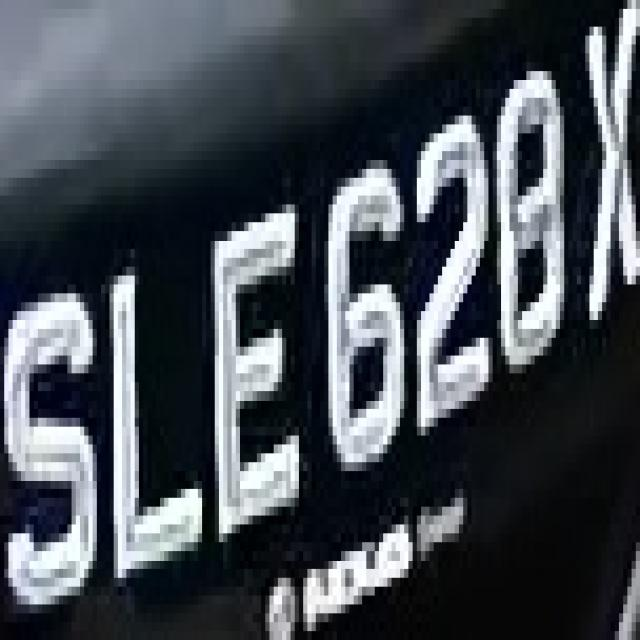2: (404, 98, 493, 462)
6: (316, 116, 421, 507)
8: (484, 44, 573, 373)
E: (202, 196, 303, 560)
L: (97, 249, 210, 587)
S: (0, 4, 1, 9)
X: (4, 0, 4, 5)
